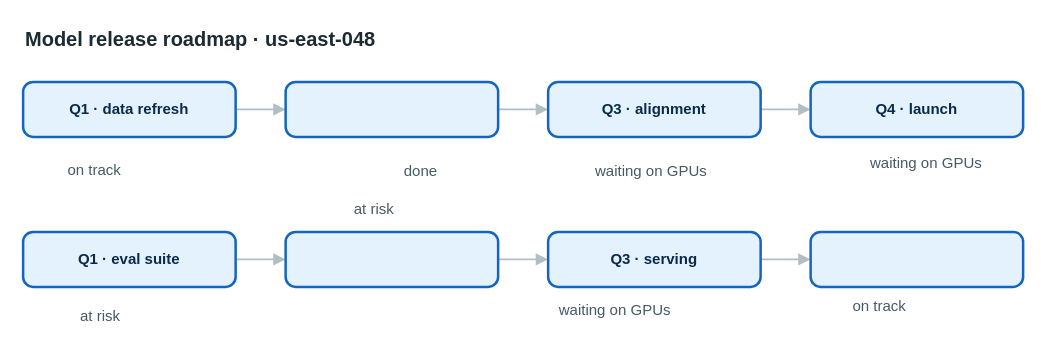
Some shapes in this 1045 by 348 pixel diagram are drawn without their labels. Here are the shapes that lost their labels. From the top down, the centre of each, then its label:
At (x=391, y=109): "Q2 · pretrain".
At (x=391, y=259): "Q2 · red team".
At (x=916, y=259): "Q4 · docs".
